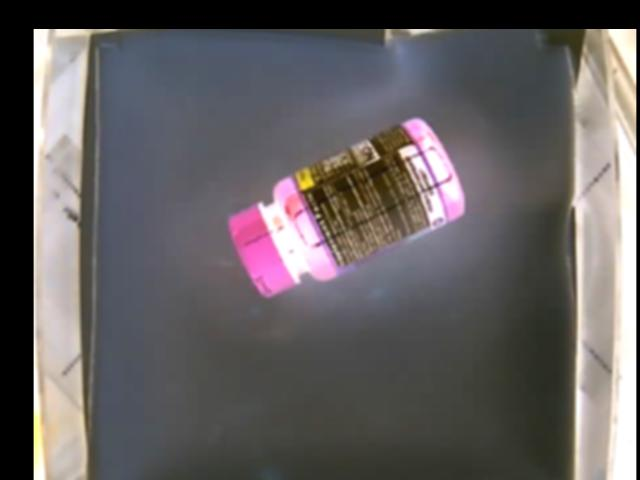Bottle: (230, 115, 466, 305)
